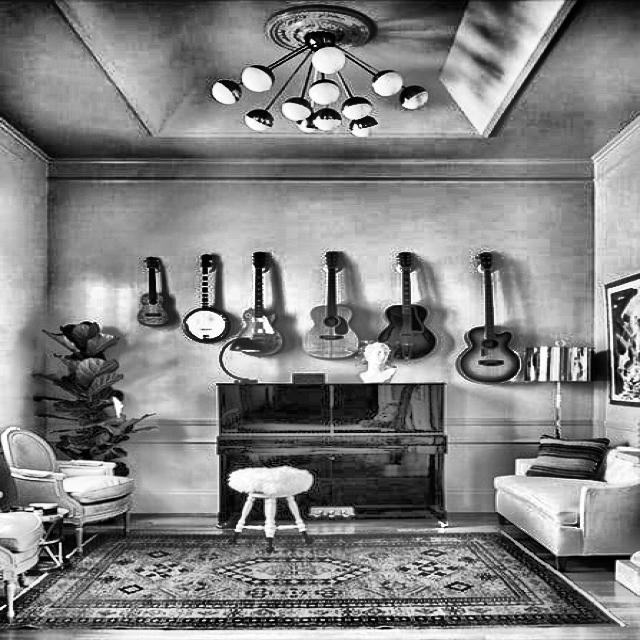hanging object: (123, 238, 587, 416)
